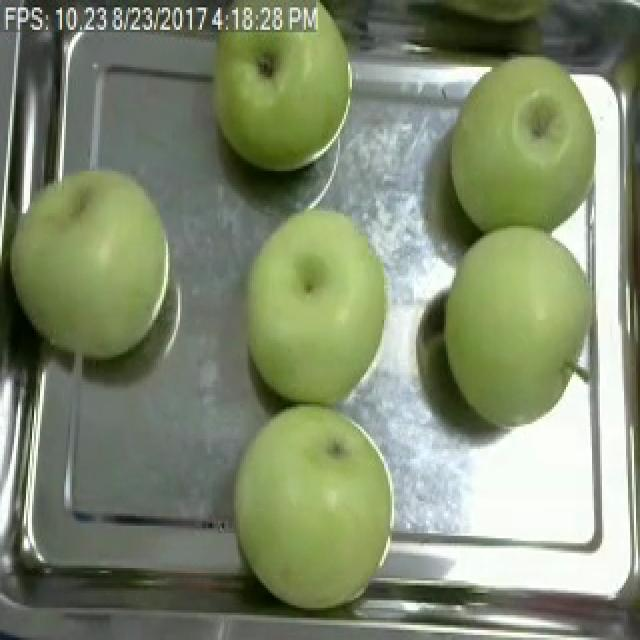50-_ripeness: (428, 216, 610, 444), (230, 409, 404, 610), (435, 51, 617, 229), (7, 170, 177, 356), (240, 206, 395, 404), (212, 0, 351, 178)
